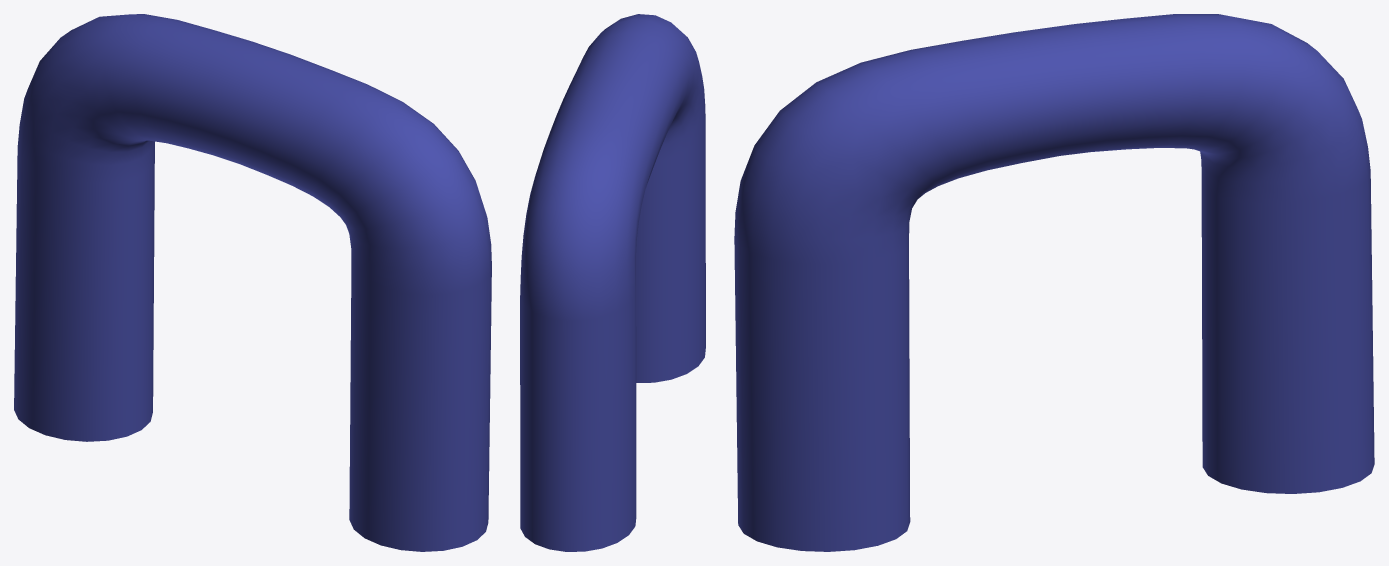
File: attach.fbx
3 renders of one model, left to right at view 1: azimuth 30°, elevation 25°; view 2: azimuth 150°, elevation 25°; view 3: azimuth 270°, elevation 25°, orthographic. The views are drawn at different scales.
Parts seen in each view (by area): view 1: pCylinder60; view 2: pCylinder60; view 3: pCylinder60.
Part boxes in pixels (left/top/right/bottom): pCylinder60: left=14, top=14, right=491, bottom=551; pCylinder60: left=520, top=14, right=705, bottom=551; pCylinder60: left=734, top=14, right=1374, bottom=551.
Bounding box in the file's own units: 0.5427 × 0.9032 × 1.11.
